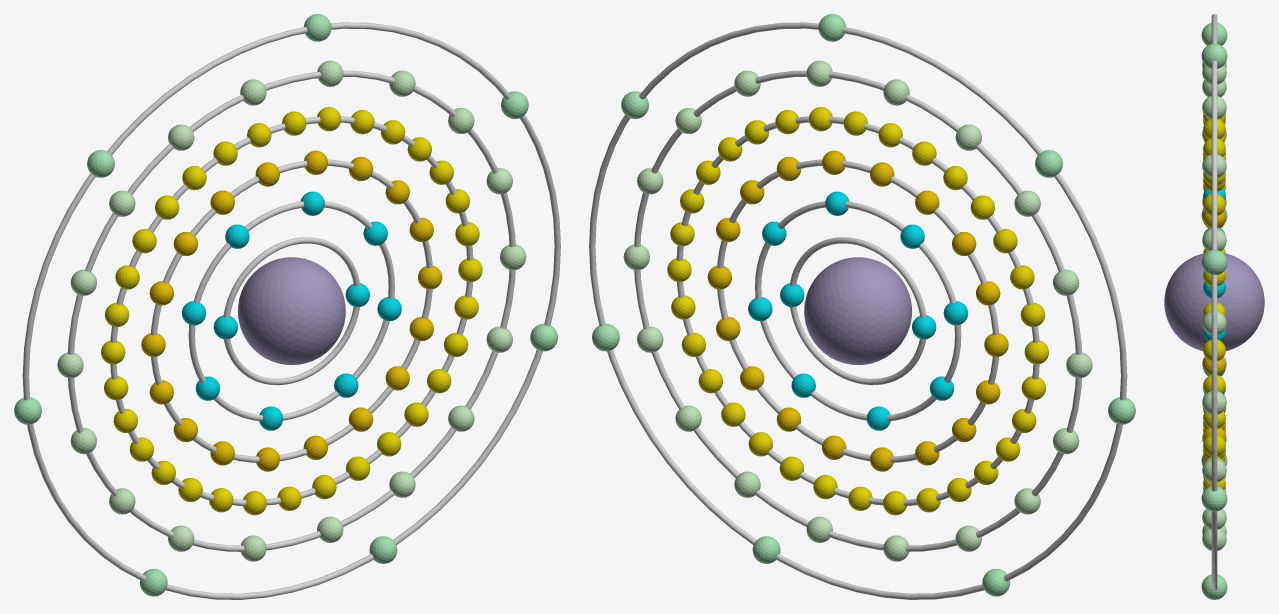
The picture shows the model from 3 angles, left to right: view 1: azimuth 30°, elevation 25°; view 2: azimuth 150°, elevation 25°; view 3: azimuth 270°, elevation 25°; orthographic projection. The views are drawn at different scales.
Visible parts, largest first — view 1: world; view 2: world; view 3: world.
Boxes of the visible parts, x1=… form: world: x1=14, y1=14, x2=560, y2=599; world: x1=589, y1=14, x2=1135, y2=599; world: x1=1164, y1=14, x2=1264, y2=599.
Bounding box in the file's own units: 2.56 × 2.56 × 0.44.
